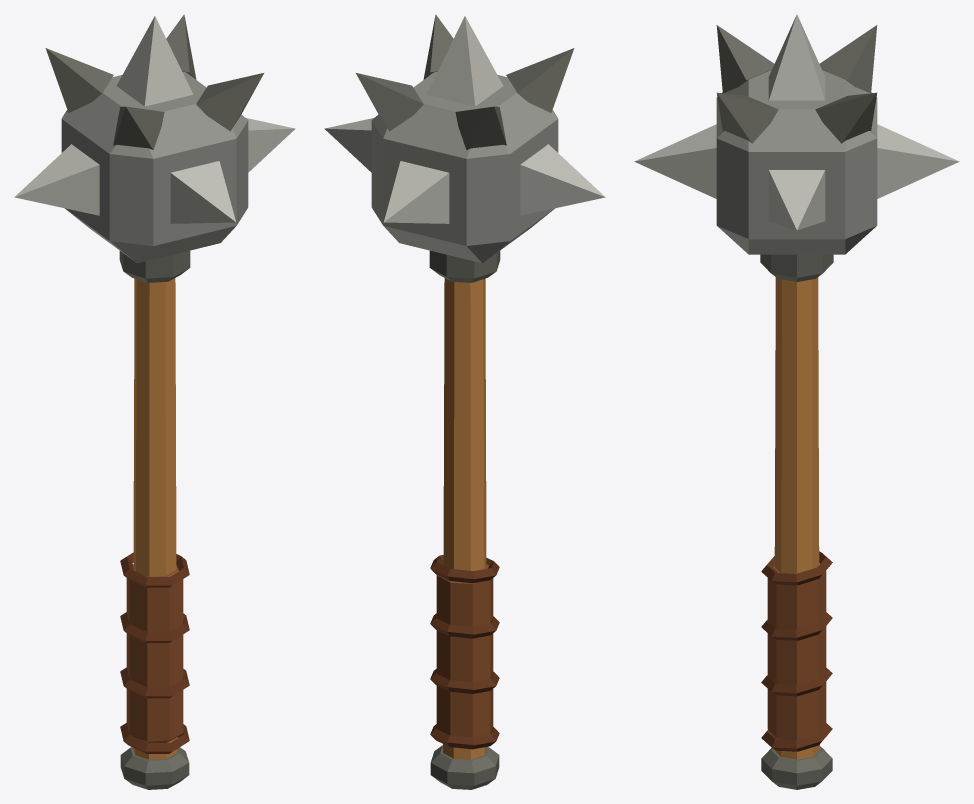
The model's file is StoneMace.fbx.
The picture shows the model from 3 angles, left to right: view 1: azimuth 30°, elevation 25°; view 2: azimuth 150°, elevation 25°; view 3: azimuth 270°, elevation 25°; orthographic projection.
Visible parts, largest first — view 1: StoneMace; view 2: StoneMace; view 3: StoneMace.
Part boxes in pixels (box(x1,y1,x2,y2)): StoneMace: box(14, 14, 295, 789); StoneMace: box(324, 14, 605, 789); StoneMace: box(634, 14, 959, 789).
Bounding box in the file's own units: 1.42 × 3.68 × 1.42.
1 material, 1 textured.
